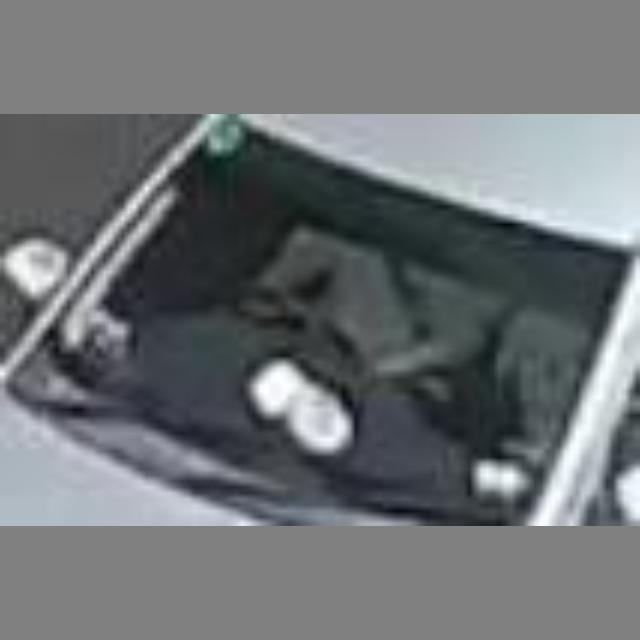pakai: (251, 180, 479, 407)
